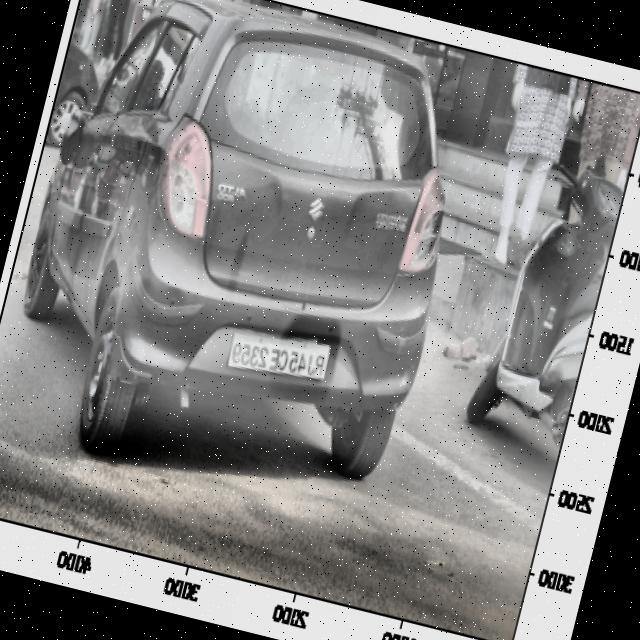license_plate: (223, 322, 331, 393)
